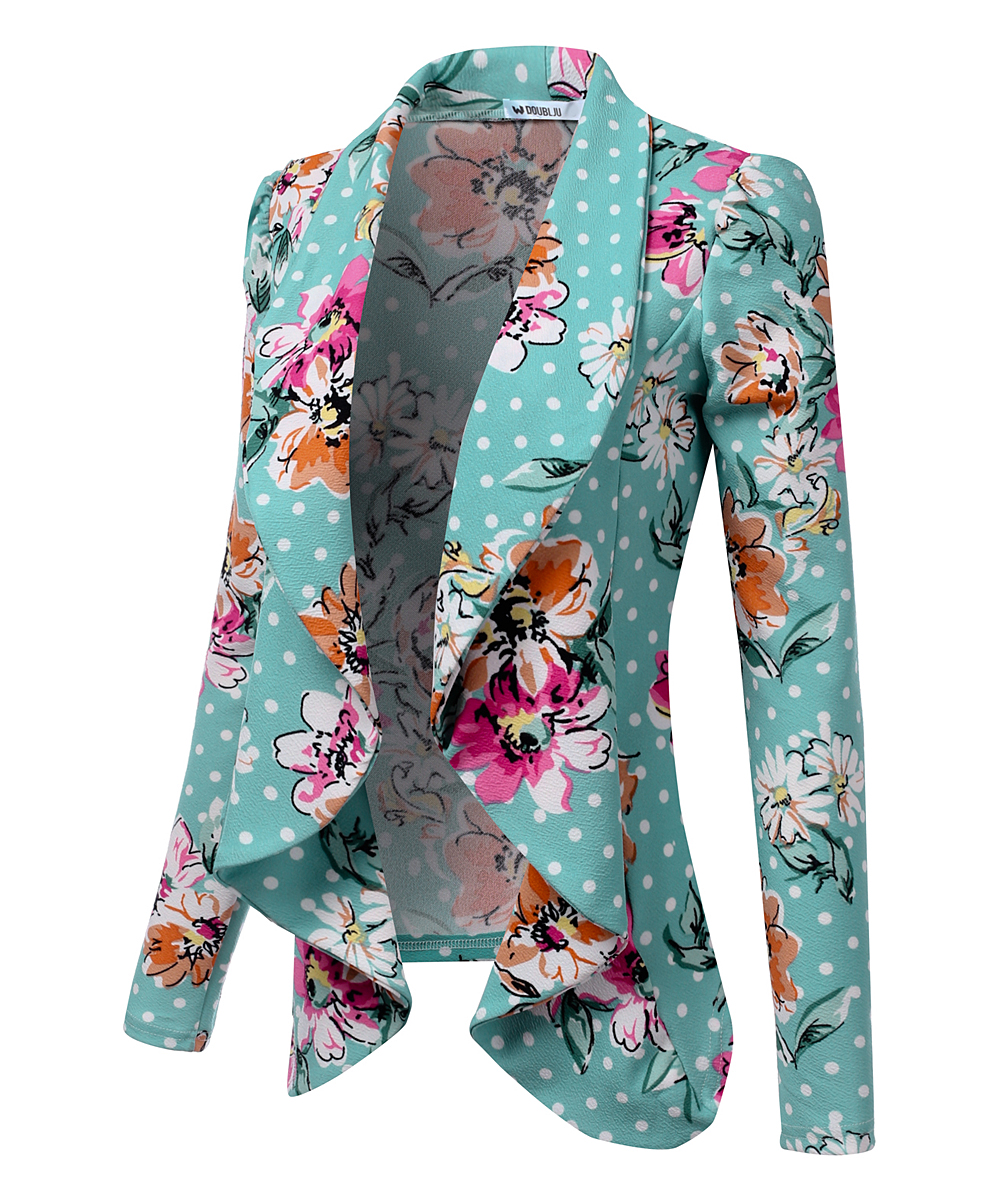F_W_suit jacket: (127, 65, 887, 1120)
